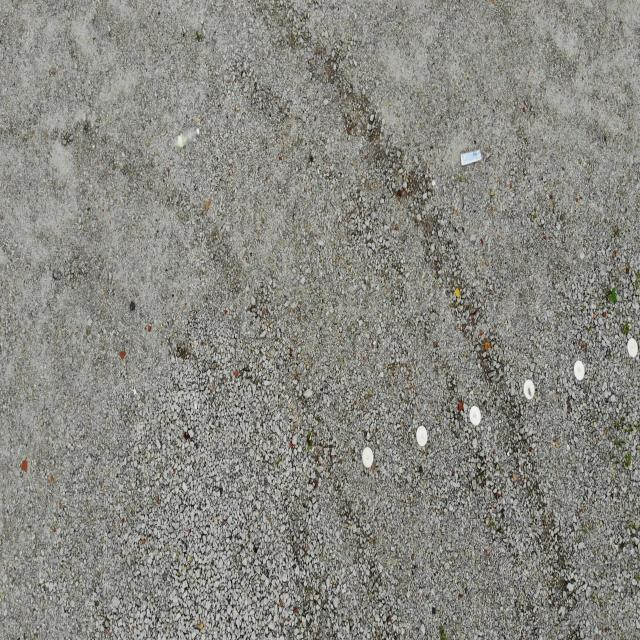rubbish: (169, 126, 200, 153), (460, 148, 483, 167)
